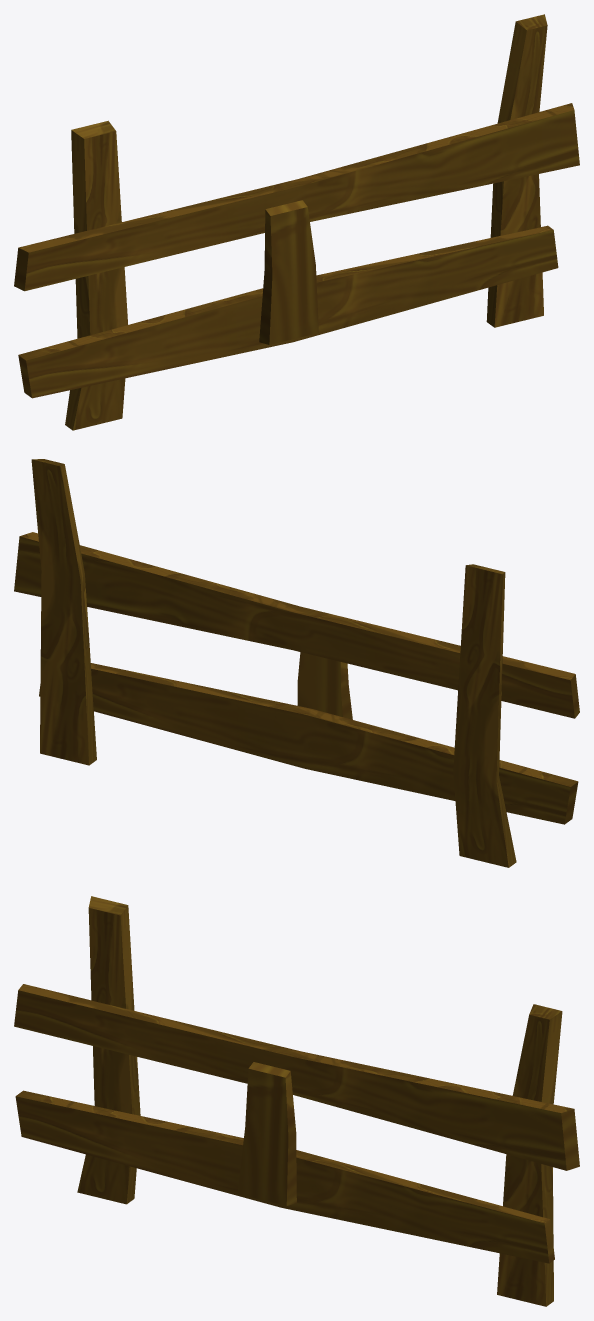
The model's file is 2_Valla_Clara.fbx.
3 views of the same model, one above another, from view 1: azimuth 30°, elevation 25°; view 2: azimuth 150°, elevation 25°; view 3: azimuth 330°, elevation 25° (orthographic).
Visible parts, largest first — view 1: V_Valla2_Clara; view 2: V_Valla2_Clara; view 3: V_Valla2_Clara.
Part boxes in pixels (x1,y1,x2,y2): V_Valla2_Clara: (14,14,579,430); V_Valla2_Clara: (14,459,579,867); V_Valla2_Clara: (14,896,579,1306).
Bounding box in the file's own units: 114 × 56.77 × 8.99.
